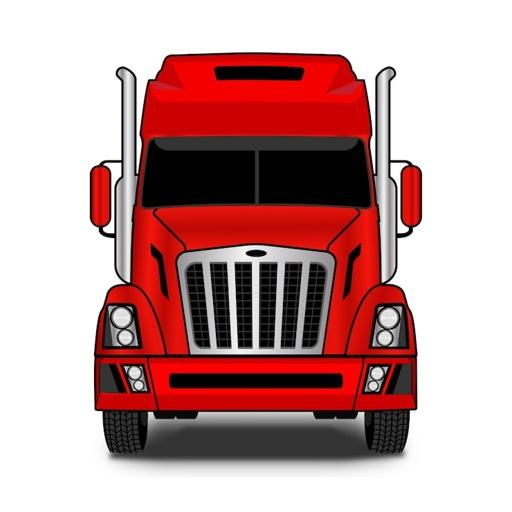truck: (88, 48, 424, 455)
